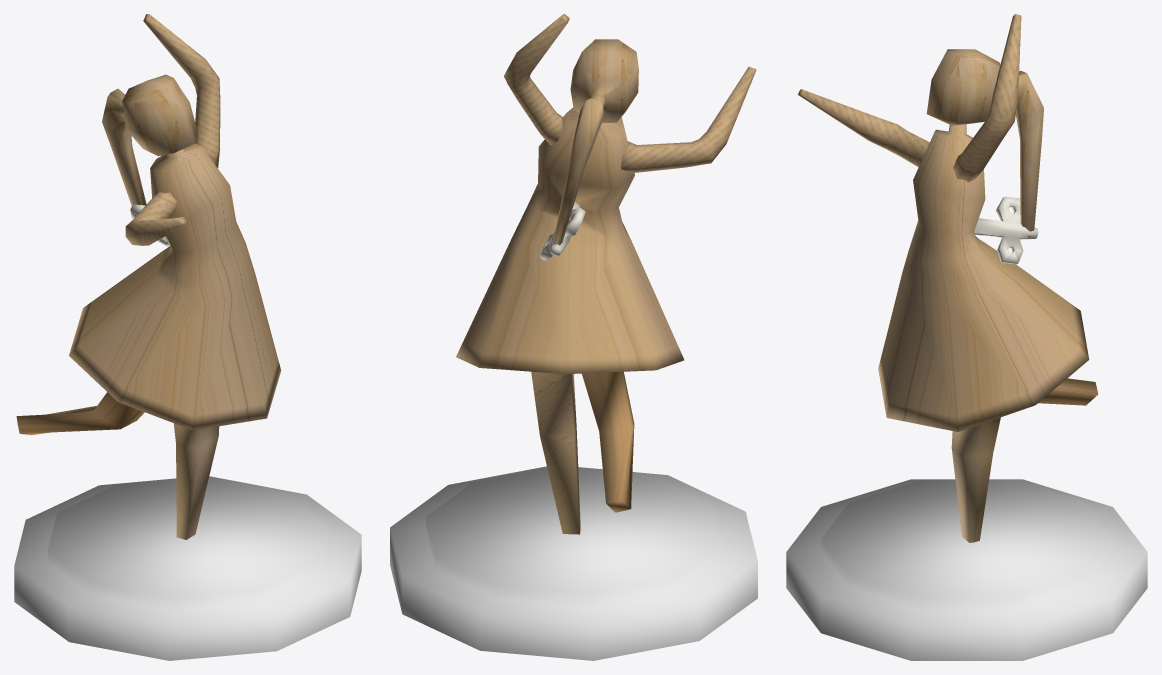
File: Ballerina.fbx
3 views of the same model, side by side, from view 1: azimuth 30°, elevation 25°; view 2: azimuth 150°, elevation 25°; view 3: azimuth 270°, elevation 25° (orthographic). The views are drawn at different scales.
Parts seen in each view (by area): view 1: Stand, Ballerina, Sphere, Cylinder; view 2: Stand, Ballerina, Cylinder, Sphere; view 3: Stand, Ballerina, Sphere, Cylinder.
Part boxes in pixels (bbox=[...]): Stand: bbox=[14, 476, 361, 660]; Ballerina: bbox=[16, 143, 281, 539]; Sphere: bbox=[102, 74, 197, 205]; Cylinder: bbox=[125, 14, 220, 245]; Stand: bbox=[390, 466, 757, 660]; Ballerina: bbox=[456, 107, 684, 534]; Cylinder: bbox=[504, 14, 756, 172]; Sphere: bbox=[552, 39, 638, 245]; Stand: bbox=[786, 479, 1147, 660]; Ballerina: bbox=[878, 124, 1098, 542]; Sphere: bbox=[926, 49, 1043, 237]; Cylinder: bbox=[797, 14, 1021, 182].
Bounding box in the file's own units: 45.11 × 82.22 × 47.44.
Materials: 4 (2 with a texture image).
